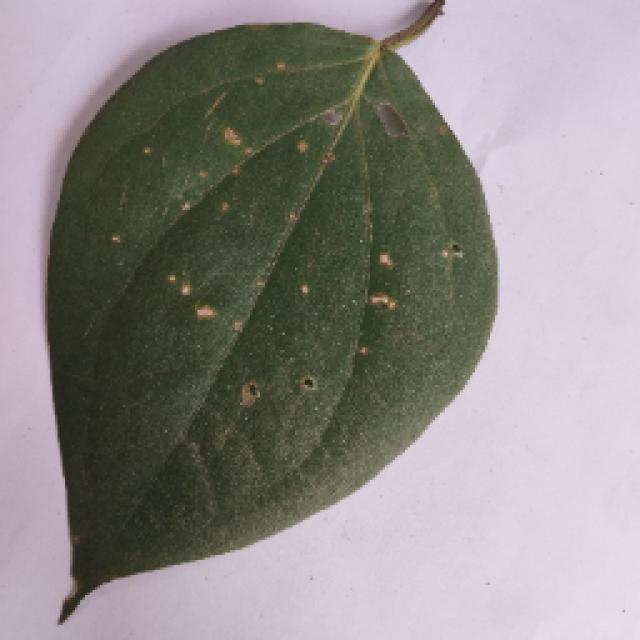pollu-disease: (15, 23, 557, 635)
